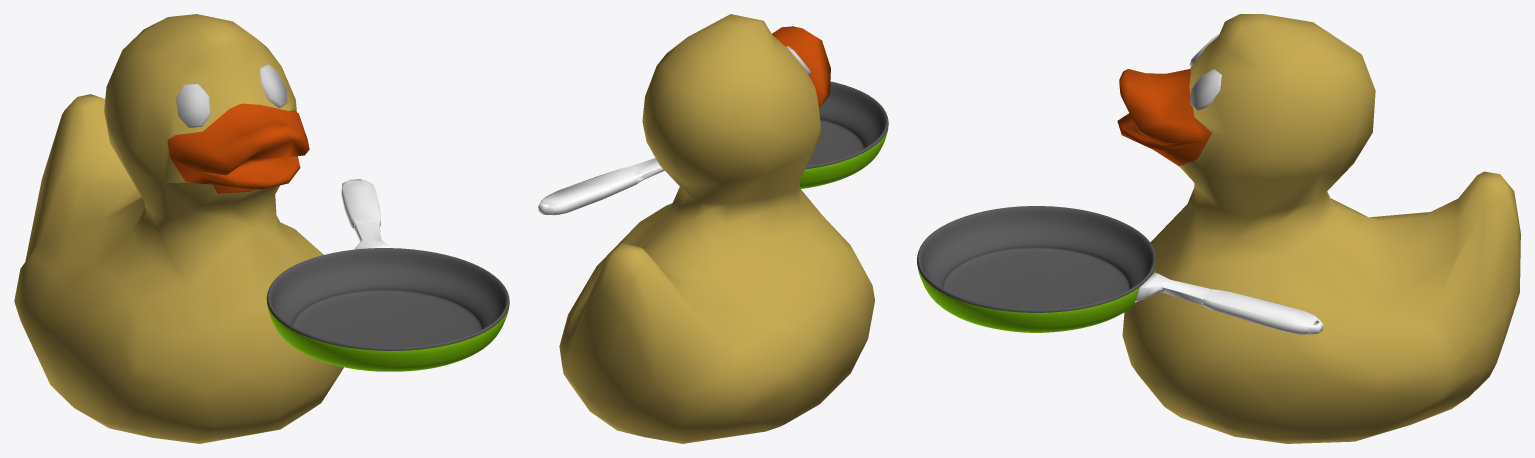
Rendered from Duck_Cook.dae.
3 renders of one model, left to right at view 1: azimuth 30°, elevation 25°; view 2: azimuth 150°, elevation 25°; view 3: azimuth 270°, elevation 25°, orthographic. The views are drawn at different scales.
Parts seen in each view (by area): view 1: Rubber_Duck, Cylinder, handle, Rubber_Duck_Eyes; view 2: Rubber_Duck, Cylinder, handle; view 3: Rubber_Duck, Cylinder, handle, Rubber_Duck_Eyes.
Boxes of the visible parts, x1,y1,x2,y2 form: Rubber_Duck: (14,14,343,443); Cylinder: (266,248,509,371); handle: (341,179,391,249); Rubber_Duck_Eyes: (176,64,287,127); Rubber_Duck: (559,14,874,443); Cylinder: (800,81,888,188); handle: (538,158,664,215); Rubber_Duck: (1117,14,1520,443); Cylinder: (917,206,1156,332); handle: (1135,272,1323,335); Rubber_Duck_Eyes: (1189,34,1221,110).
Bounding box in the file's own units: 3.03 × 5.06 × 3.57.
